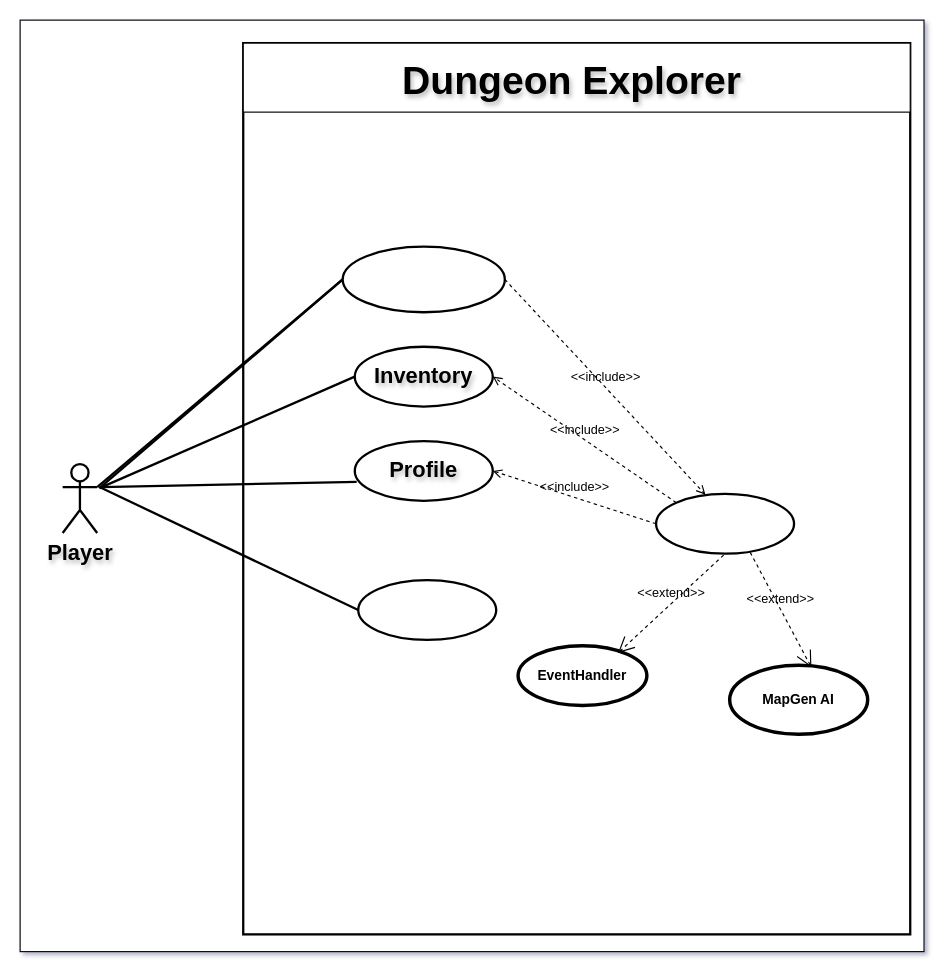
Image size: 951x979. Some labels were removed from this diagram. Here are the shapes that lost their labels. From the top down, the box of each, then its label:
(341, 245, 505, 313): Enter Game
(654, 492, 795, 554): Dungeon Quest
(356, 578, 497, 641): Exit
